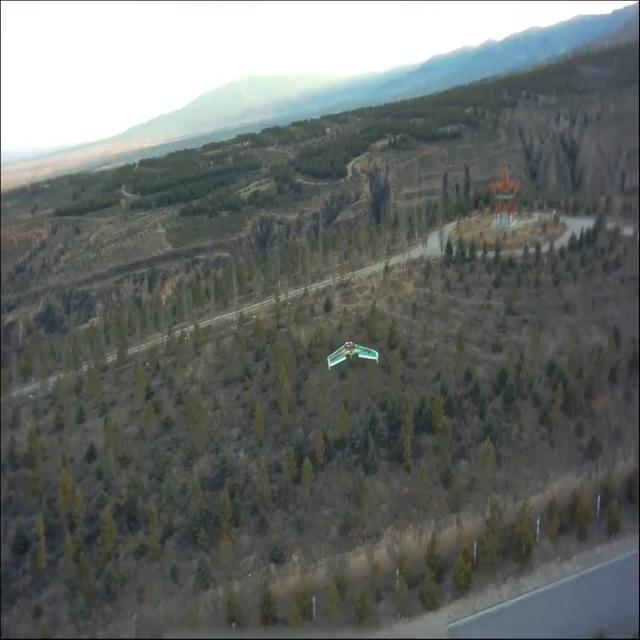iha: (327, 339, 378, 371)
